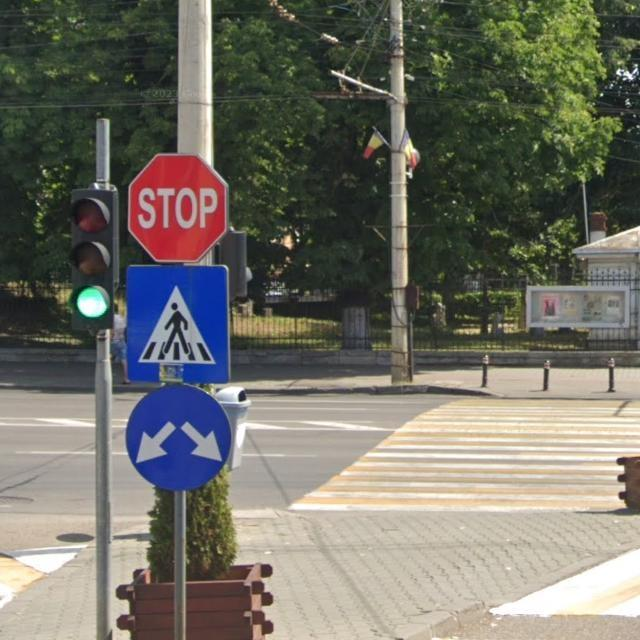info_crosswalk: (125, 262, 234, 384)
prio_stop: (128, 153, 230, 263)
